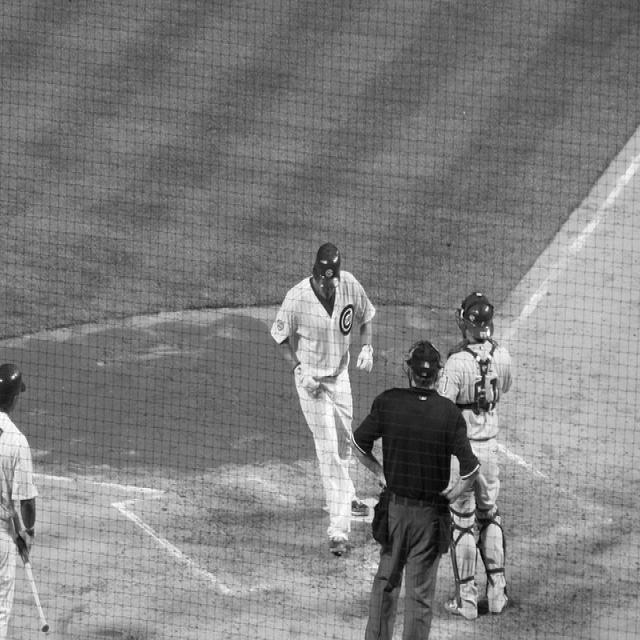monkey: (349, 338, 481, 631), (268, 239, 379, 554), (437, 291, 516, 622), (1, 366, 37, 640)
